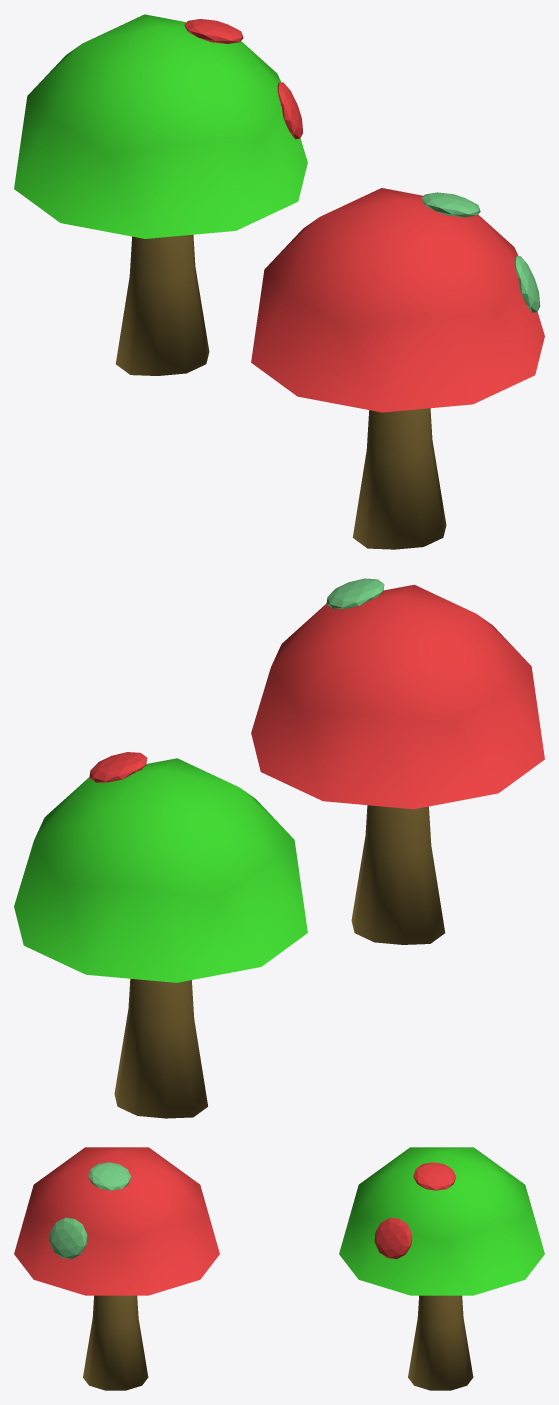
File: mush.fbx
3 views of the same model, one above another, from view 1: azimuth 30°, elevation 25°; view 2: azimuth 150°, elevation 25°; view 3: azimuth 270°, elevation 25° (orthographic). The views are drawn at different scales.
Visible parts, largest first — view 1: Cylinder, Cylinder.001; view 2: Cylinder.001, Cylinder; view 3: Cylinder, Cylinder.001.
Part boxes in pixels (<box>): Cylinder: <box>251,188,544,549</box>; Cylinder.001: <box>14,14,307,375</box>; Cylinder.001: <box>14,752,307,1118</box>; Cylinder: <box>251,578,544,944</box>; Cylinder: <box>14,1147,219,1390</box>; Cylinder.001: <box>339,1147,544,1390</box>.
Bounding box in the file's own units: 598 × 768 × 1621.
